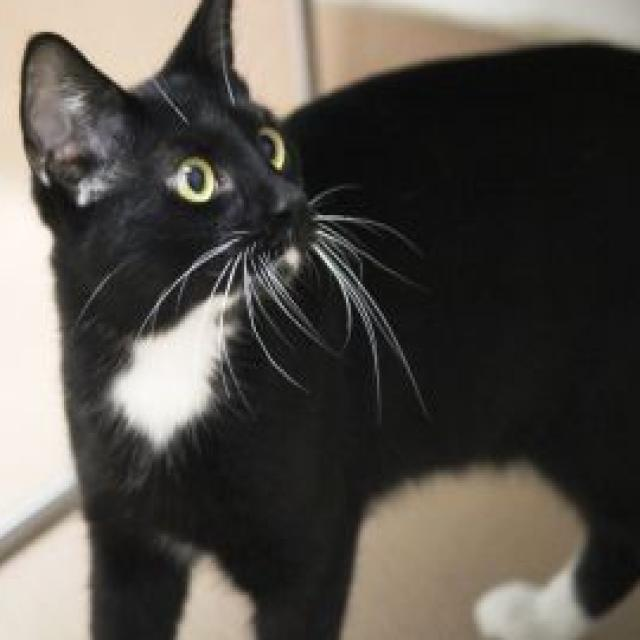Tuxedo: (16, 0, 640, 640)
